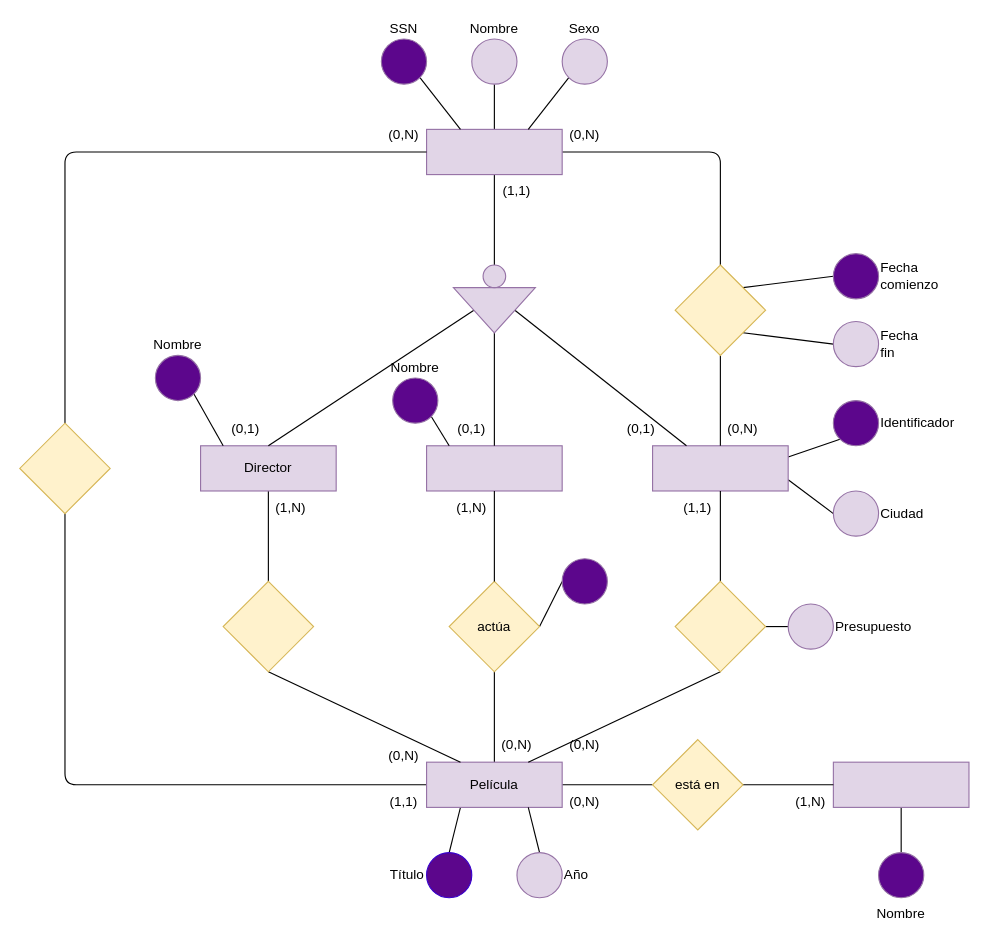
The diagram is 989 pixels wide and 940 high, and some of its shapes have lost their labels. The centre of each missing label's shape, as x and y in pixels:
"Actor" goes at (x=493, y=468).
"Categoría" goes at (x=900, y=784).
"contratado por" goes at (x=720, y=309).
"dirigida por" goes at (x=268, y=626).
"Estudio" goes at (x=719, y=468).
"favorita de" goes at (x=64, y=468).
"Persona" goes at (x=493, y=151).
"Personaje" goes at (x=584, y=581).
"producida por" goes at (x=720, y=626).
